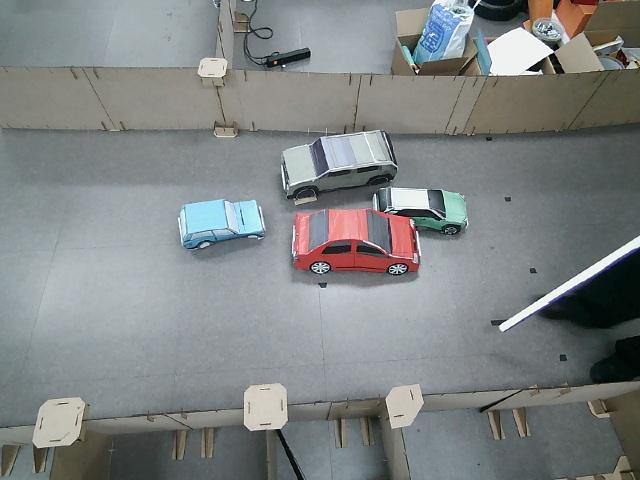car: (281, 129, 399, 202), (291, 209, 421, 274), (373, 185, 469, 236), (176, 199, 266, 251)
